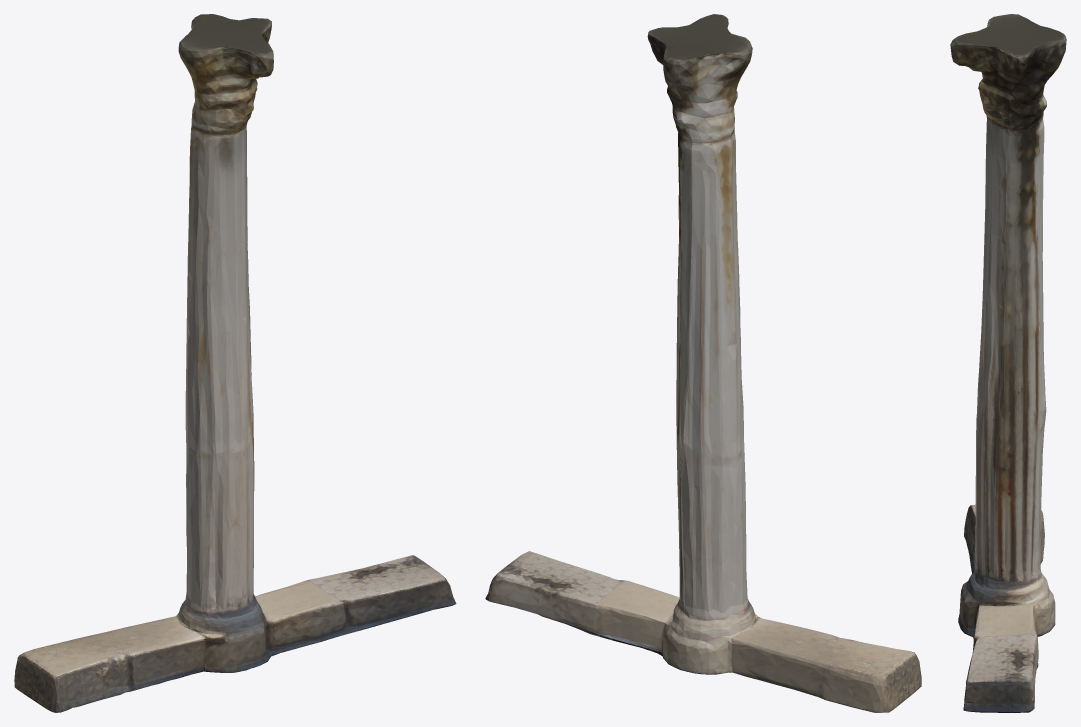
Rendered from column.glb.
The picture shows the model from 3 angles, left to right: view 1: azimuth 30°, elevation 25°; view 2: azimuth 150°, elevation 25°; view 3: azimuth 270°, elevation 25°; orthographic projection. The views are drawn at different scales.
Parts seen in each view (by area): view 1: world; view 2: world; view 3: world.
Boxes of the visible parts, x1,y1,x2,y2 form: world: (14,14,456,712); world: (485,14,921,712); world: (950,14,1066,712).
Bounding box in the file's own units: 0.6942 × 1 × 0.1779.
1 material, 1 textured.
